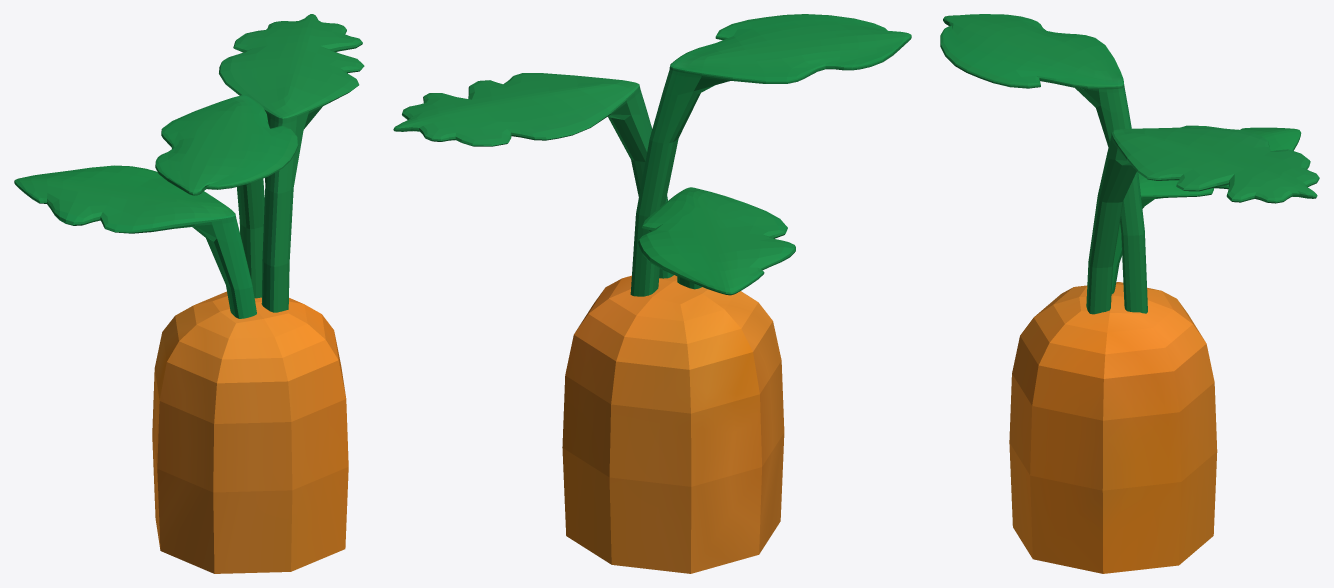
Rendered from SM_Crop_Carrot_Stage_Growing.fbx.
3 views of the same model, side by side, from view 1: azimuth 30°, elevation 25°; view 2: azimuth 150°, elevation 25°; view 3: azimuth 270°, elevation 25° (orthographic). The views are drawn at different scales.
Parts seen in each view (by area): view 1: SM_Crop_Carrot_ST2; view 2: SM_Crop_Carrot_ST2; view 3: SM_Crop_Carrot_ST2.
Part boxes in pixels (<box>): SM_Crop_Carrot_ST2: <box>14,14,364,573</box>; SM_Crop_Carrot_ST2: <box>393,14,911,573</box>; SM_Crop_Carrot_ST2: <box>940,14,1319,573</box>.
Size of the model in its own units: 62.71 by 81.71 by 62.26.
1 material, 1 textured.
